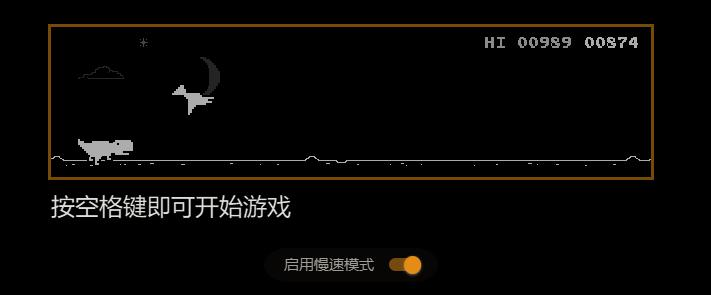bird: (171, 84, 215, 115)
dino: (76, 138, 136, 166)
